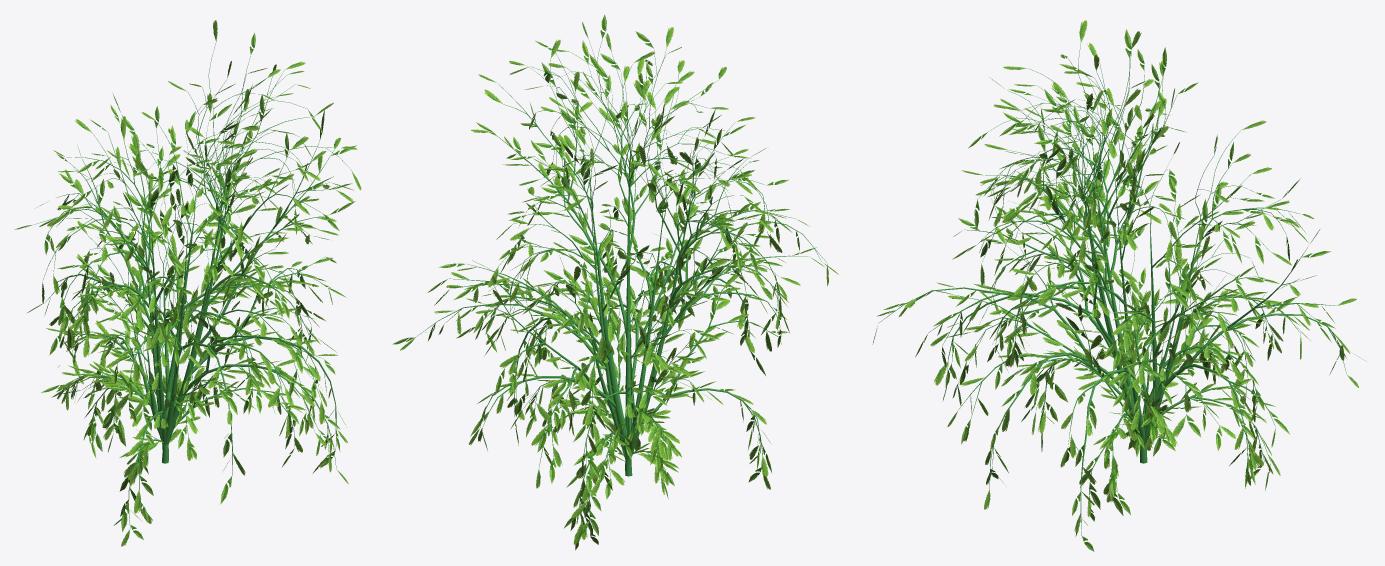
Rendered from strawberry_plant.glb.
The picture shows the model from 3 angles, left to right: view 1: azimuth 30°, elevation 25°; view 2: azimuth 150°, elevation 25°; view 3: azimuth 270°, elevation 25°; orthographic projection. The views are drawn at different scales.
Visible parts, largest first — view 1: leaves, crown_stems; view 2: leaves, crown_stems; view 3: leaves, crown_stems.
Part boxes in pixels (x1,y1,x2,y2): leaves: (14,20,361,546); crown_stems: (33,42,350,528); leaves: (392,14,838,550); crown_stems: (416,39,826,531); leaves: (872,20,1366,551); crown_stems: (878,43,1346,535).
Bounding box in the file's own units: 505 × 658 × 602.
Materials: 2 (1 with a texture image).
